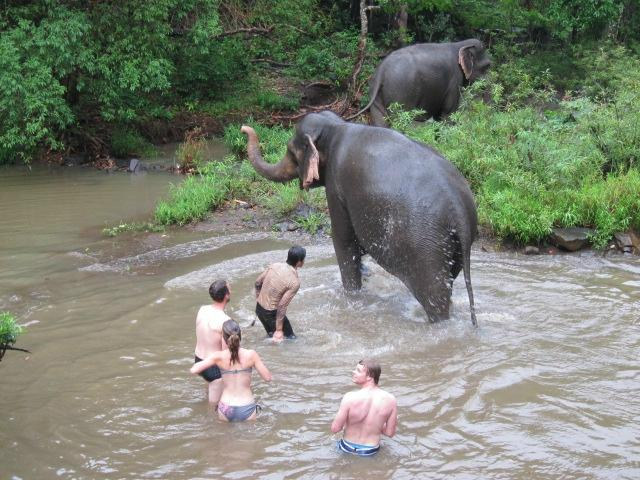elephant: (233, 108, 491, 333), (358, 33, 513, 131)
